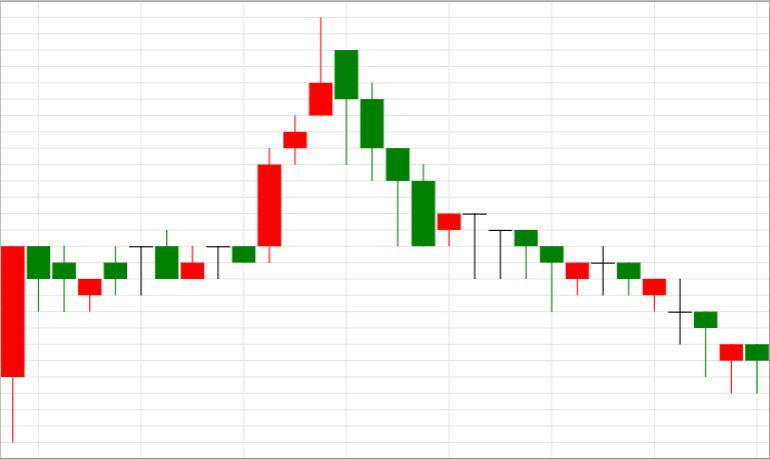hanging_man_fall: (181, 16, 358, 279)
